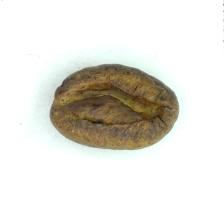NG: (55, 77, 171, 133)
